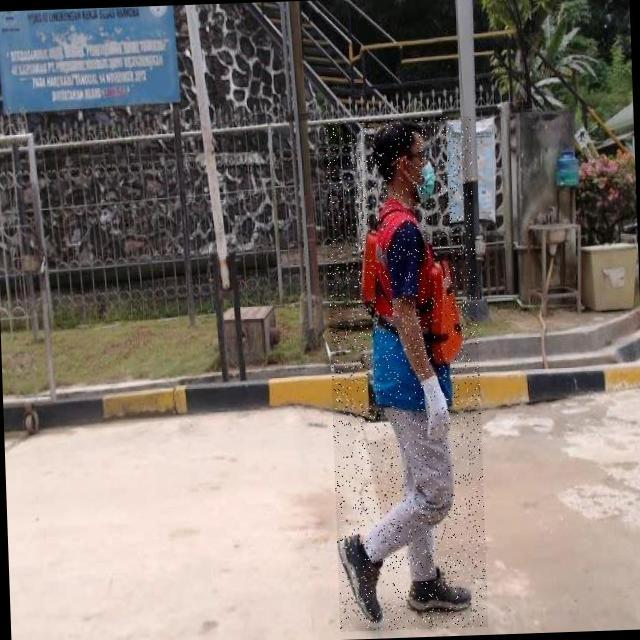Human: (322, 116, 488, 632)
Safety Boot: (338, 529, 388, 628), (404, 566, 473, 618)
Safety Vest: (360, 198, 468, 415)
